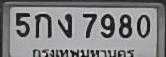0: (136, 13, 150, 37)
5: (15, 12, 29, 36)
7: (82, 12, 96, 37)
8: (118, 13, 131, 37)
9: (100, 13, 114, 37)
A01: (34, 12, 51, 37)
A07: (57, 13, 71, 37)
